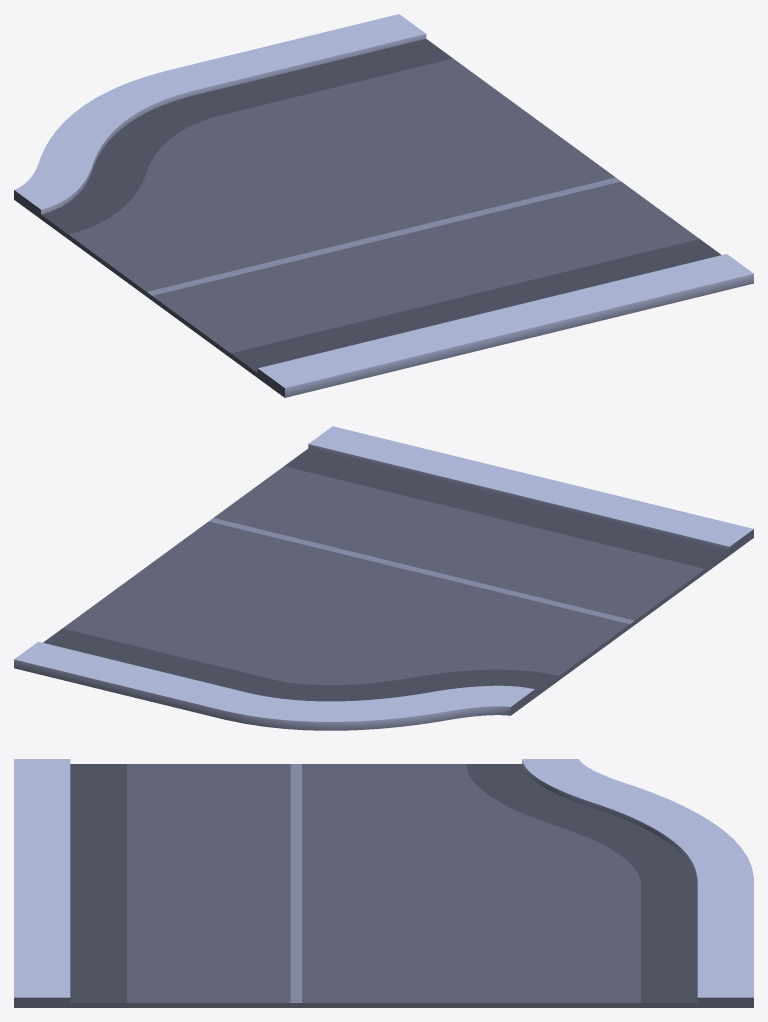
File: road-side-exit.fbx
The picture shows the model from 3 angles, top to bottom: view 1: azimuth 30°, elevation 25°; view 2: azimuth 150°, elevation 25°; view 3: azimuth 270°, elevation 25°; orthographic projection. The views are drawn at different scales.
Visible parts, largest first — view 1: road-side-exit; view 2: road-side-exit; view 3: road-side-exit.
Boxes of the visible parts, x1,y1,x2,y2 form: road-side-exit: [14, 14, 753, 397]; road-side-exit: [14, 426, 753, 730]; road-side-exit: [14, 759, 753, 1007].
Size of the model in its own units: 100 by 2 by 131.
